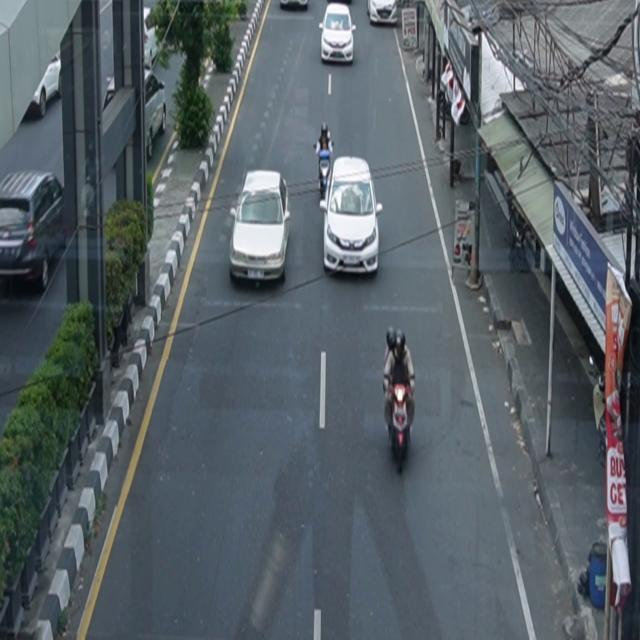car: (1, 169, 67, 292), (320, 156, 384, 277), (230, 170, 292, 286), (319, 3, 357, 65), (367, 1, 398, 26)
